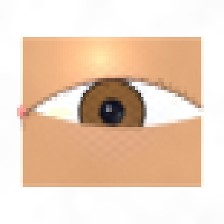pinguecula_lesion: (37, 93, 84, 132)
